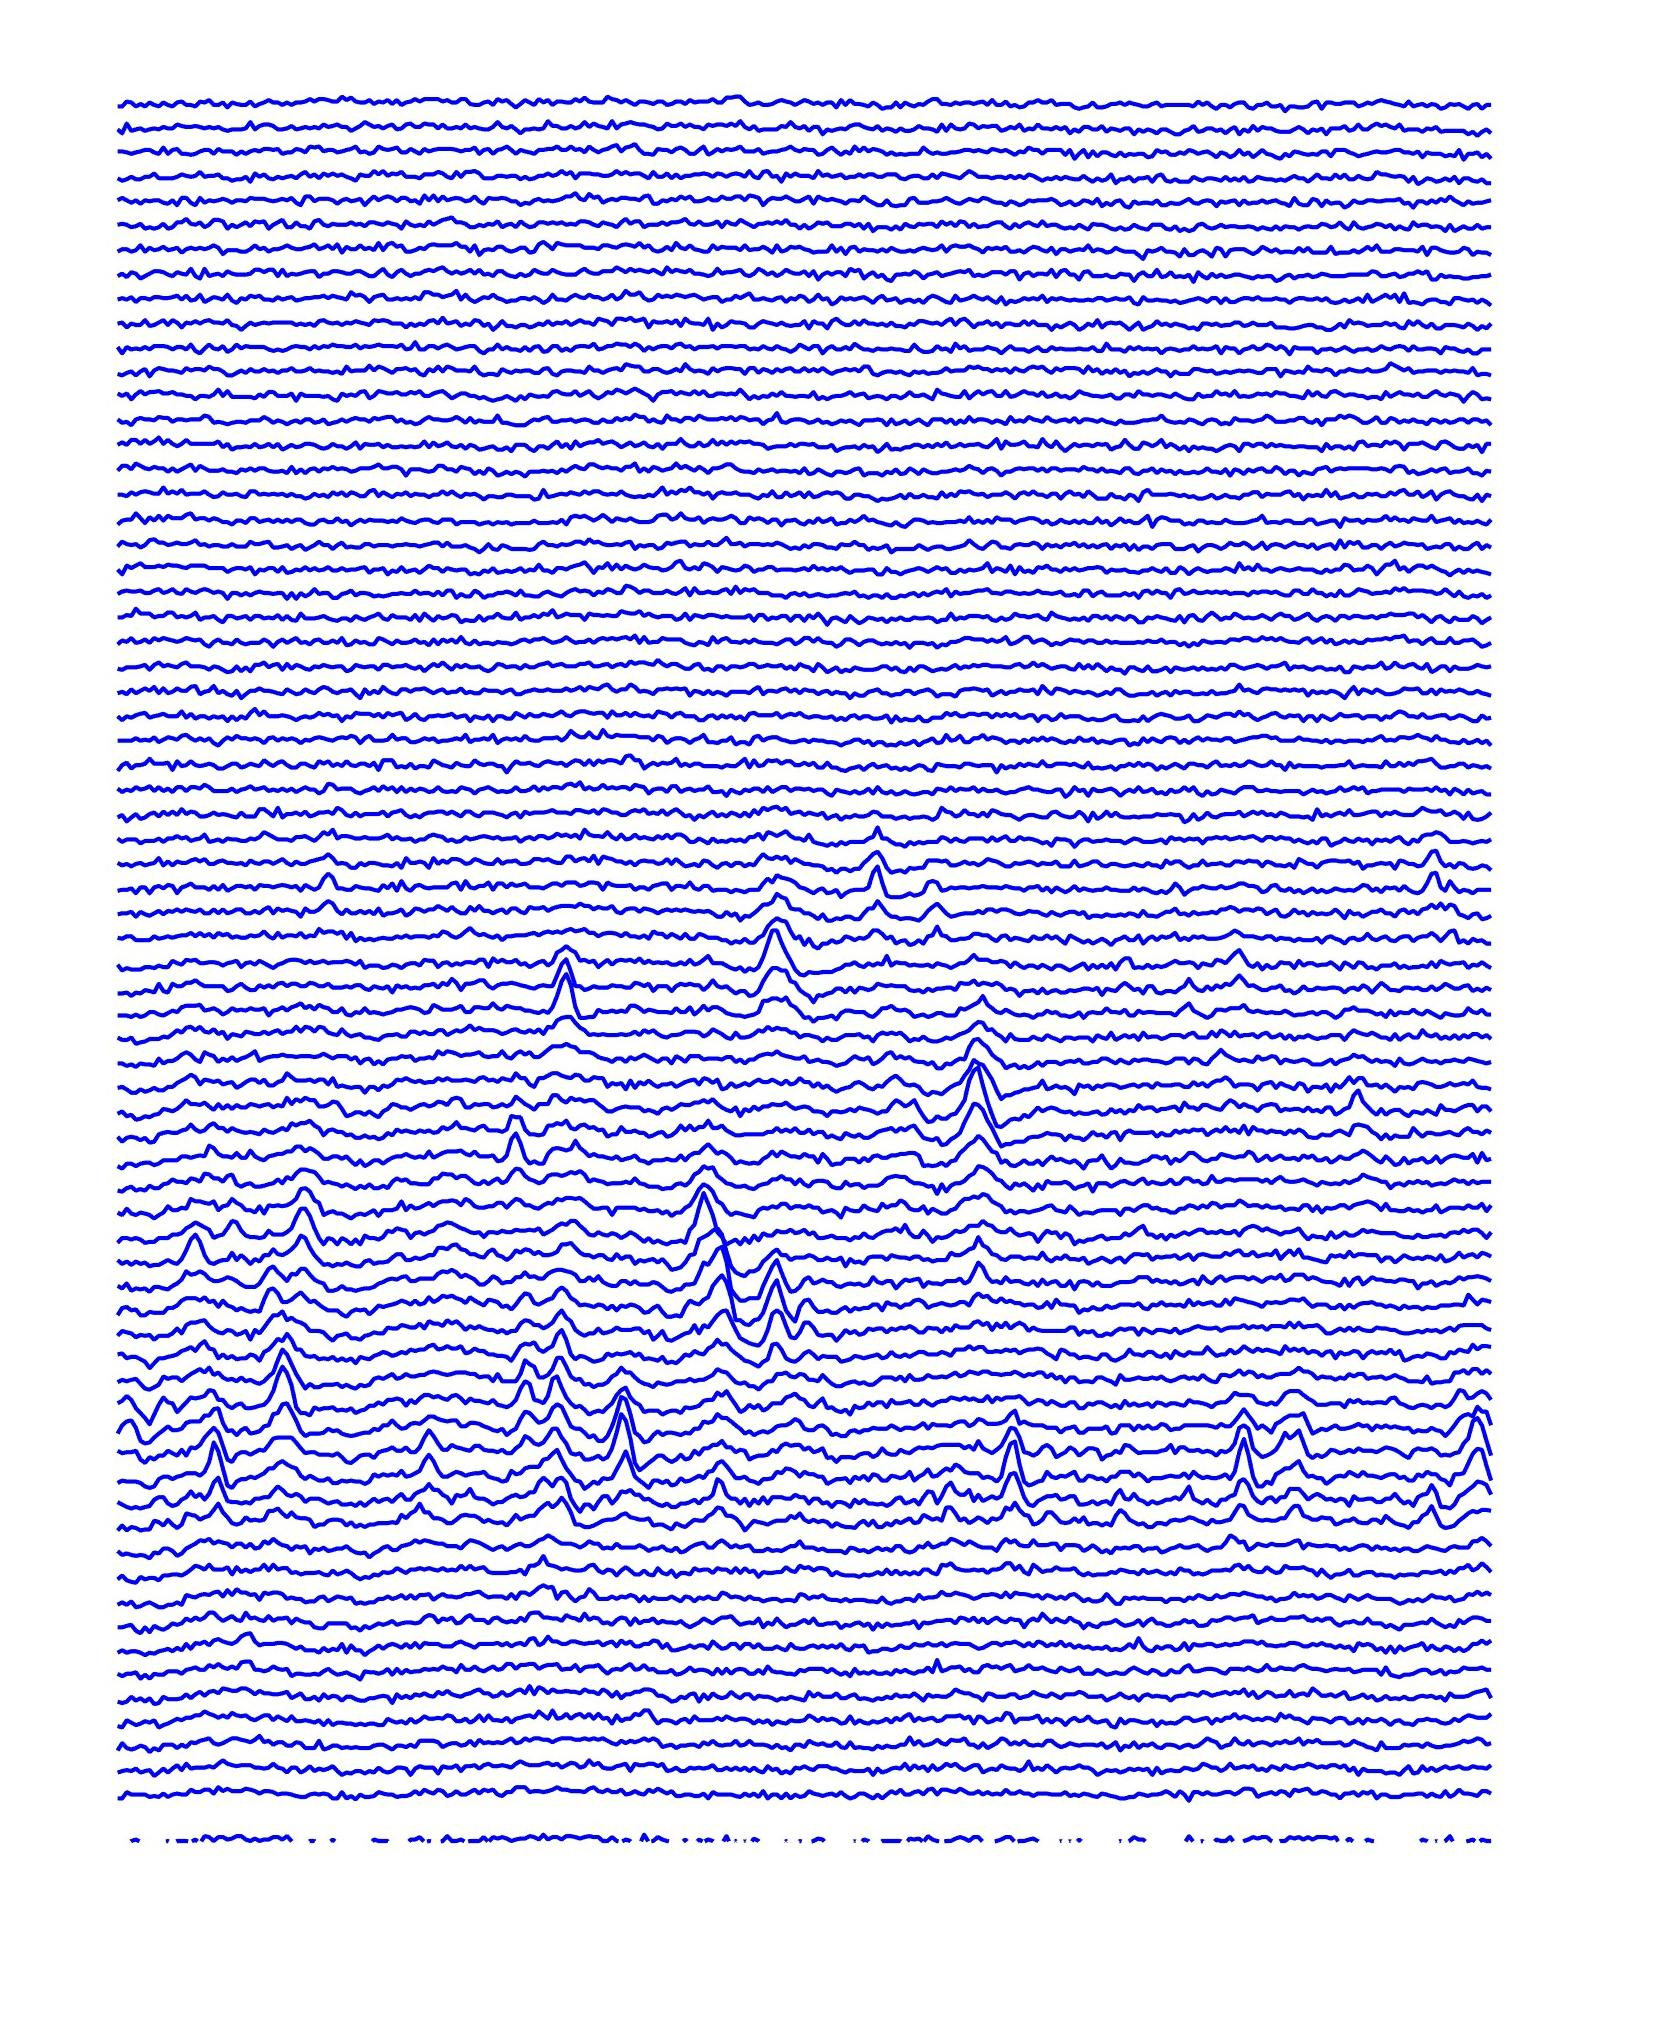defect: (493, 1277, 581, 1529), (665, 1181, 754, 1342), (1221, 1395, 1325, 1523), (933, 1031, 1009, 1181), (743, 888, 823, 1022), (482, 1080, 571, 1193), (249, 1282, 312, 1442), (177, 1380, 239, 1524), (1446, 1373, 1494, 1541), (386, 1406, 451, 1524), (699, 1401, 754, 1533), (758, 1253, 822, 1366), (1408, 809, 1465, 930), (552, 940, 611, 1051), (599, 1373, 647, 1511), (977, 1412, 1039, 1516), (281, 1159, 332, 1273), (864, 809, 899, 915)
